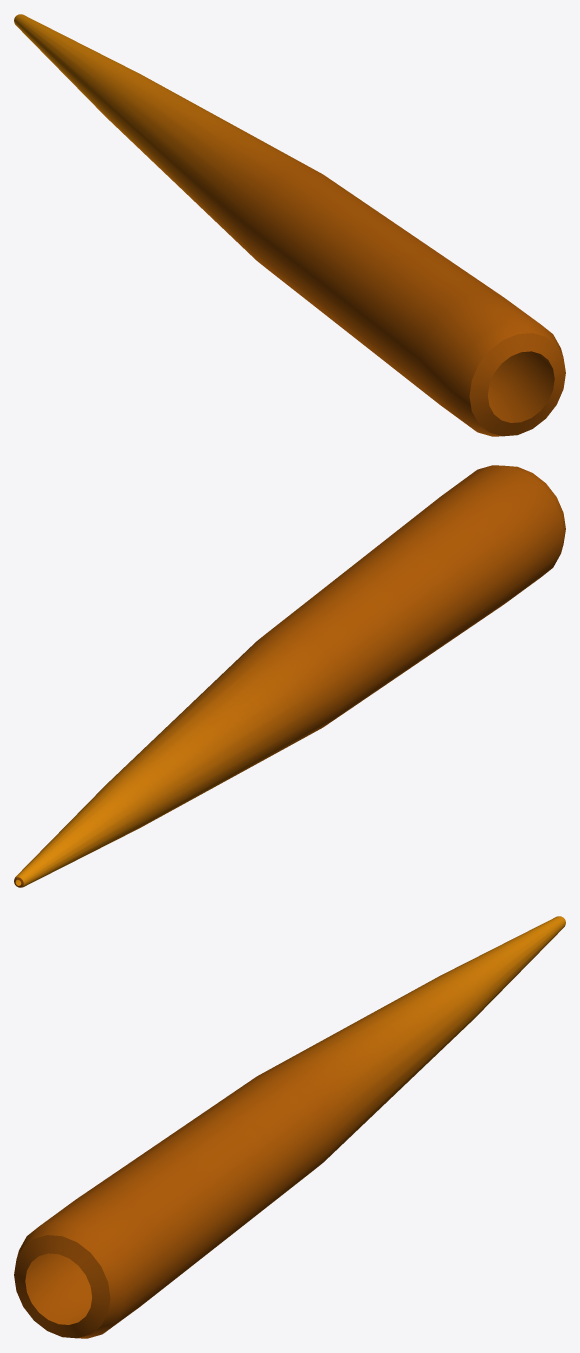
Rendered from carrot_2 1.fbx.
3 views of the same model, one above another, from view 1: azimuth 30°, elevation 25°; view 2: azimuth 150°, elevation 25°; view 3: azimuth 330°, elevation 25° (orthographic).
Visible parts, largest first — view 1: carrot_2; view 2: carrot_2; view 3: carrot_2.
Part boxes in pixels (bbox=[...]): carrot_2: bbox=[14, 14, 565, 436]; carrot_2: bbox=[14, 465, 565, 887]; carrot_2: bbox=[14, 916, 565, 1338].
Size of the model in its own units: 705 by 87.99 by 87.99.
